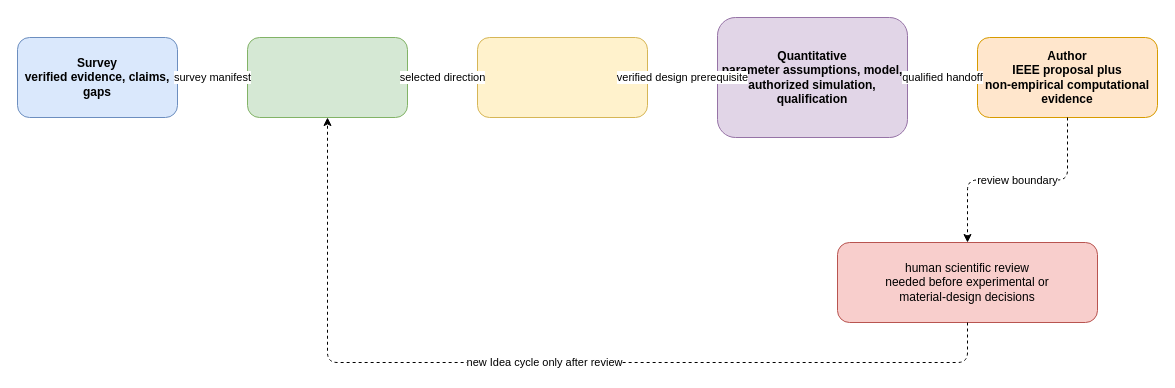
Image size: 1175x388. Some labels were removed from this diagram. Each missing label, with the centre of its shape:
ExperimentDesign measurements, controls, ethics: pixel 562 77
Idea directions, falsifiers, Q1 candidate: pixel 327 77
